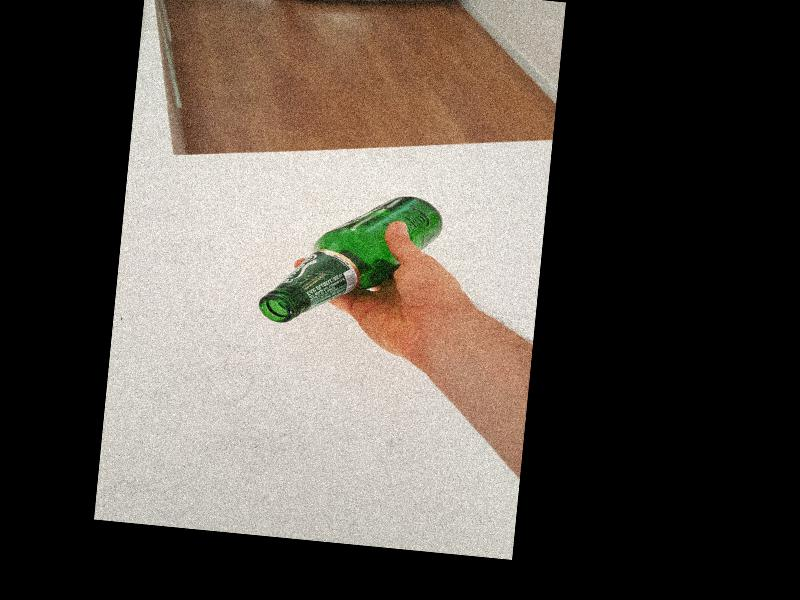Beer: (255, 183, 443, 339)
